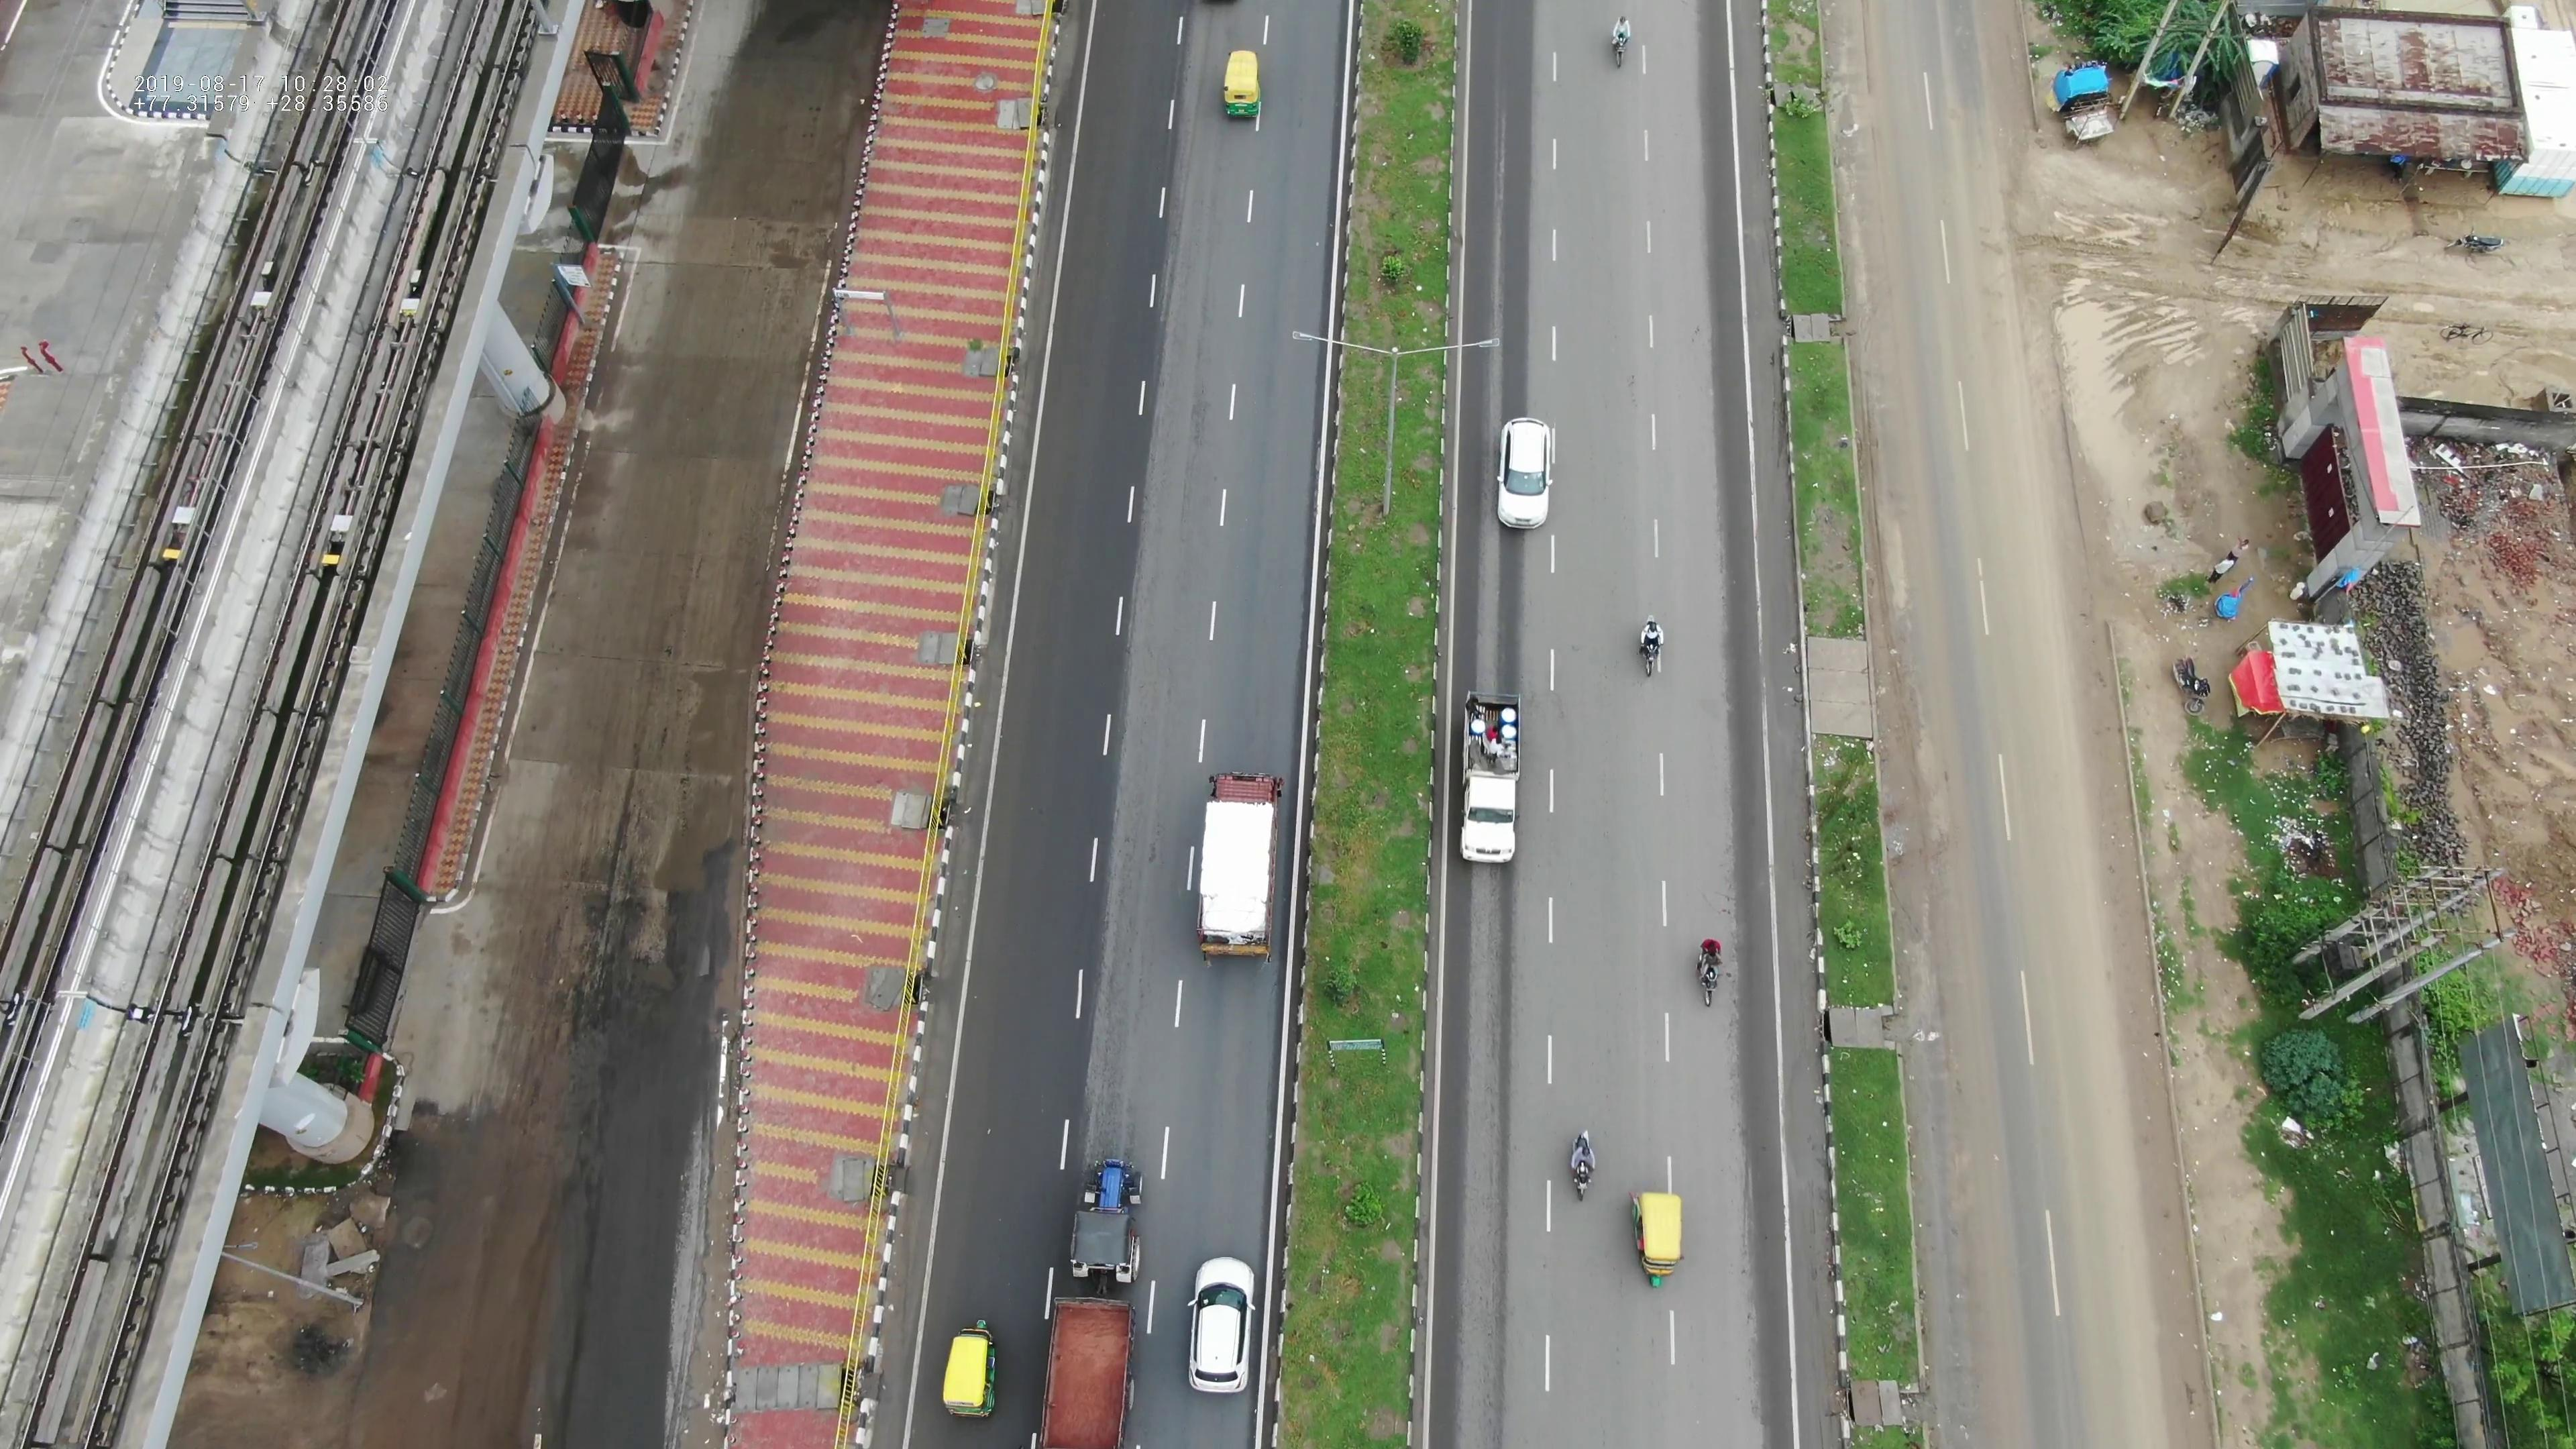Muddy_road: (1955, 306, 2104, 805), (2054, 876, 2185, 1387), (1870, 492, 1994, 913), (1902, 973, 2022, 1380)
